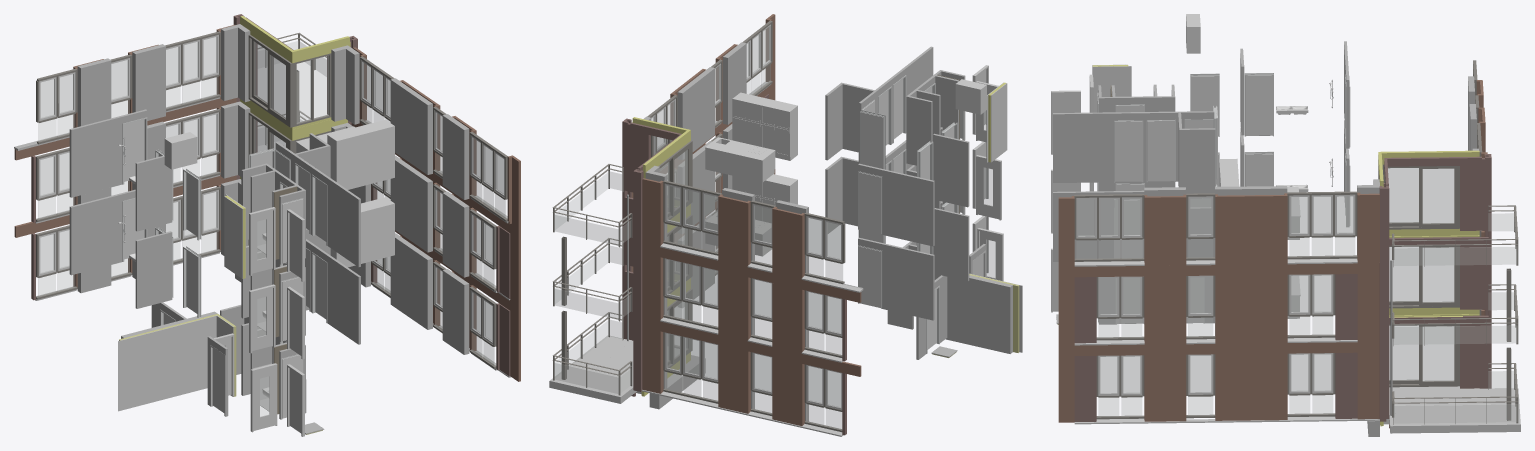
The picture shows the model from 3 angles, left to right: view 1: azimuth 30°, elevation 25°; view 2: azimuth 150°, elevation 25°; view 3: azimuth 270°, elevation 25°; orthographic projection. The views are drawn at different scales.
Size of the model in its own units: 13.84 by 11.1 by 16.21.
